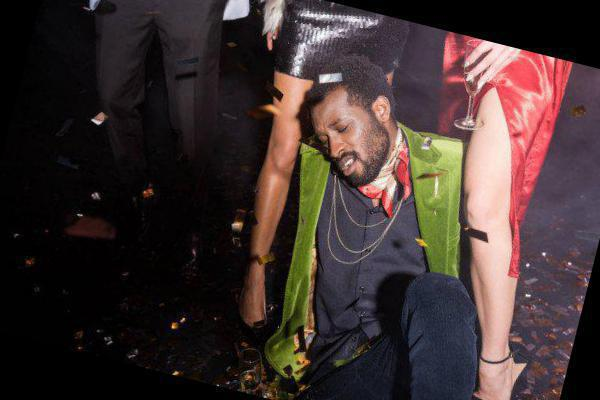Drunk: (309, 98, 386, 181)
